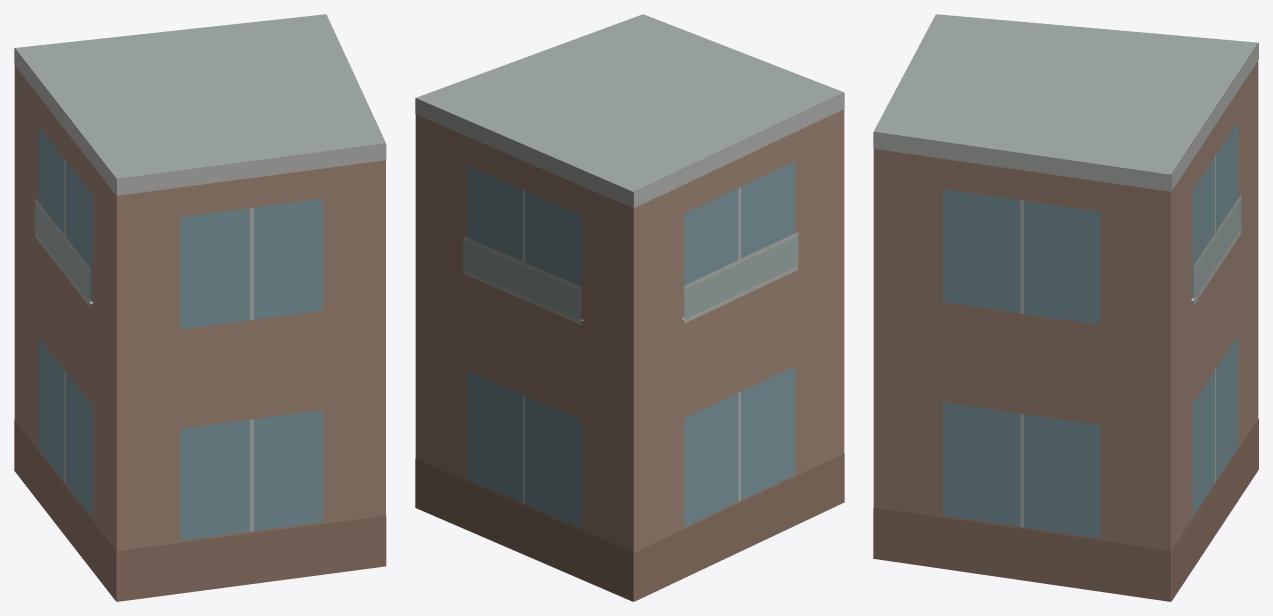
Rendered from survey-upis-32545259.glb.
3 views of the same model, side by side, from view 1: azimuth 30°, elevation 25°; view 2: azimuth 150°, elevation 25°; view 3: azimuth 270°, elevation 25° (orthographic). The views are drawn at different scales.
Visible parts, largest first — view 1: survey-upis-32545259.tmp; view 2: survey-upis-32545259.tmp; view 3: survey-upis-32545259.tmp.
Part boxes in pixels (x1,y1,x2,y2): survey-upis-32545259.tmp: (14, 14, 386, 601); survey-upis-32545259.tmp: (415, 14, 844, 601); survey-upis-32545259.tmp: (873, 14, 1258, 601).
Size of the model in its own units: 4.94 by 6.1 by 5.
